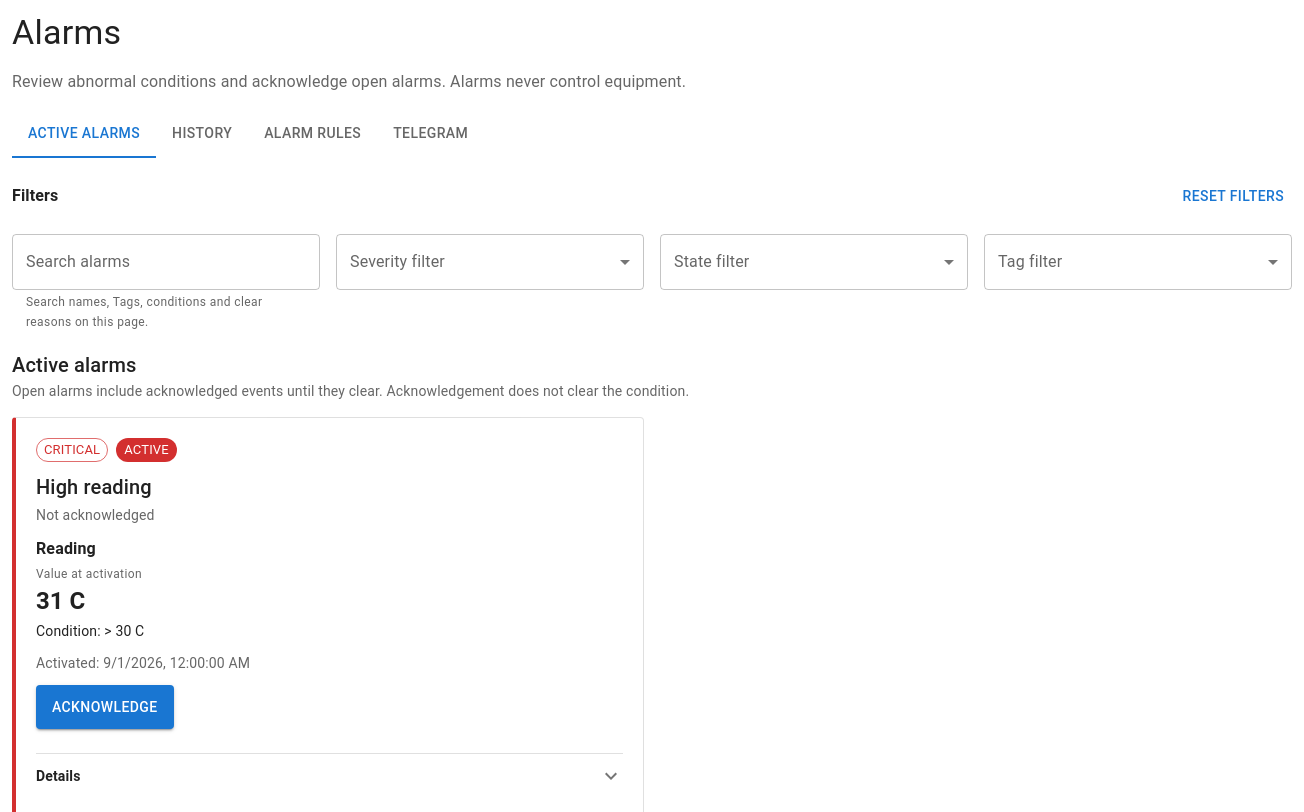
Test: responsive alarm events › displays acknowledge failure without changing the event state
The width and height of the screenshot is (1304, 812).
What coordinates should you click on to do the following:
click the button with aria-label "Acknowledge High reading"
I would click on:
 (105, 707)
Its box is [36,685,174,729].
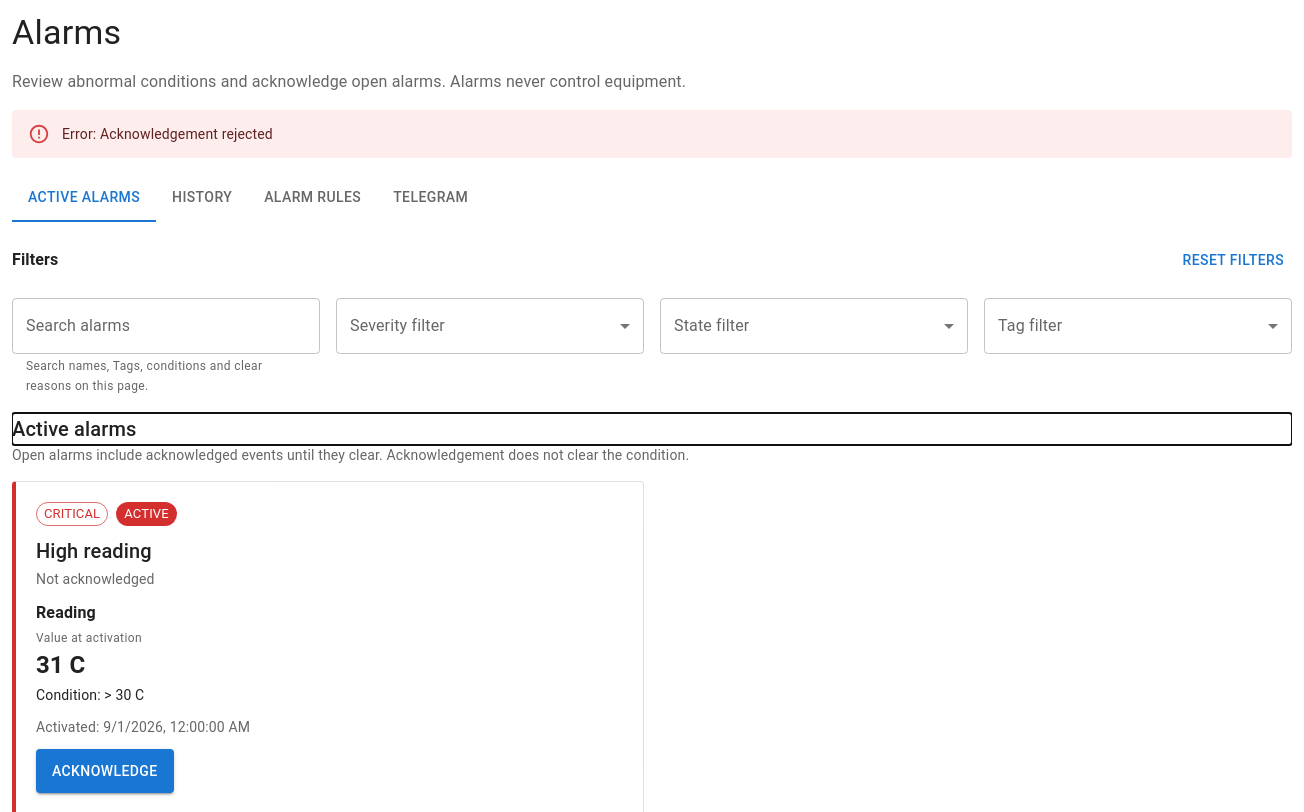
Expected: the text "ACTIVE" is shown, [124,506,169,521]
Now the message shows "Acknowledgement rejected", box [62,126,273,142]
